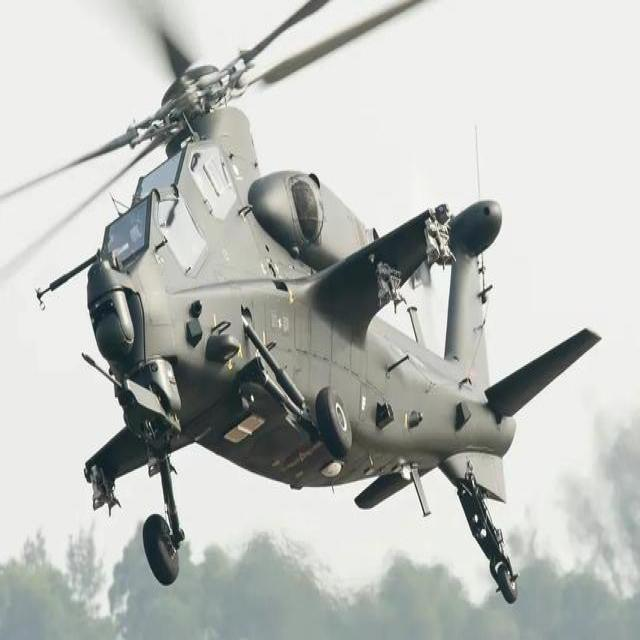MIL_HELO: (5, 0, 624, 603)
